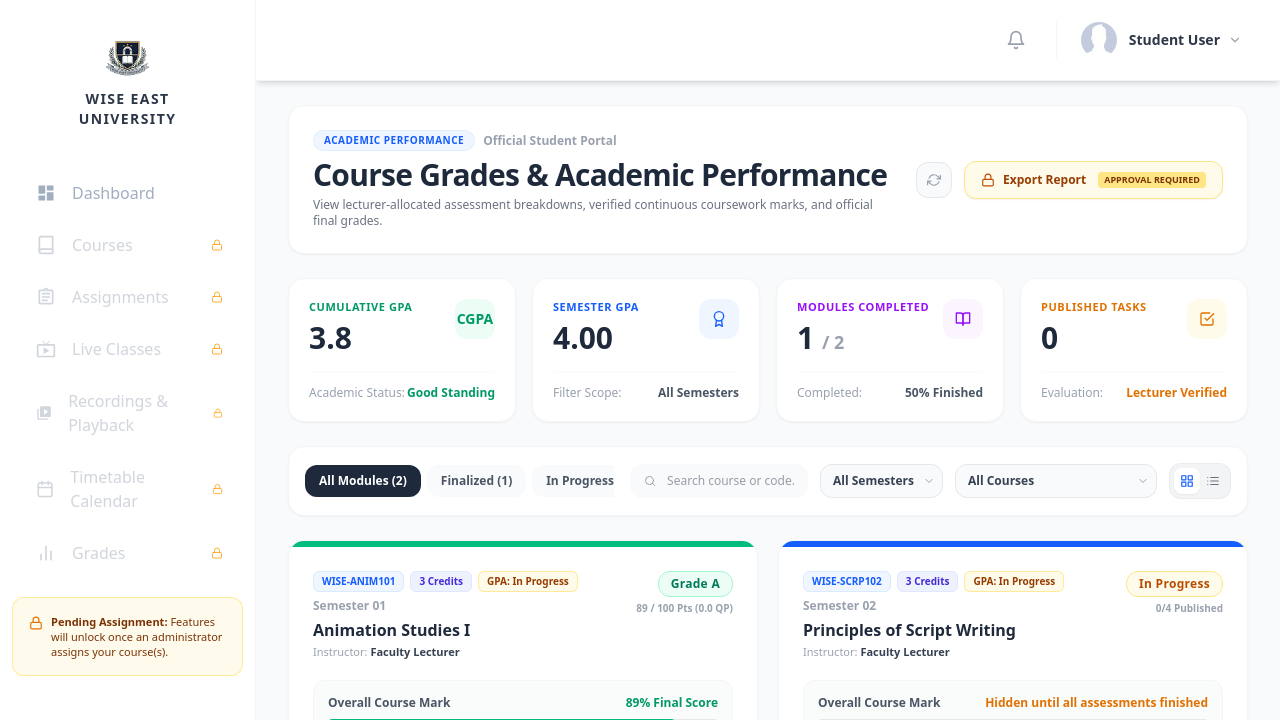
it: GradesPage component › shows admin approval modal when Export Report is clicked and report is not approved
The width and height of the screenshot is (1280, 720).
Expected: the heading "Animation Studies I" is shown, x1=313 y1=618 x2=470 y2=640
Click the button "Export Report Approval Required" at (1094, 180), box x1=964 y1=160 x2=1223 y2=198
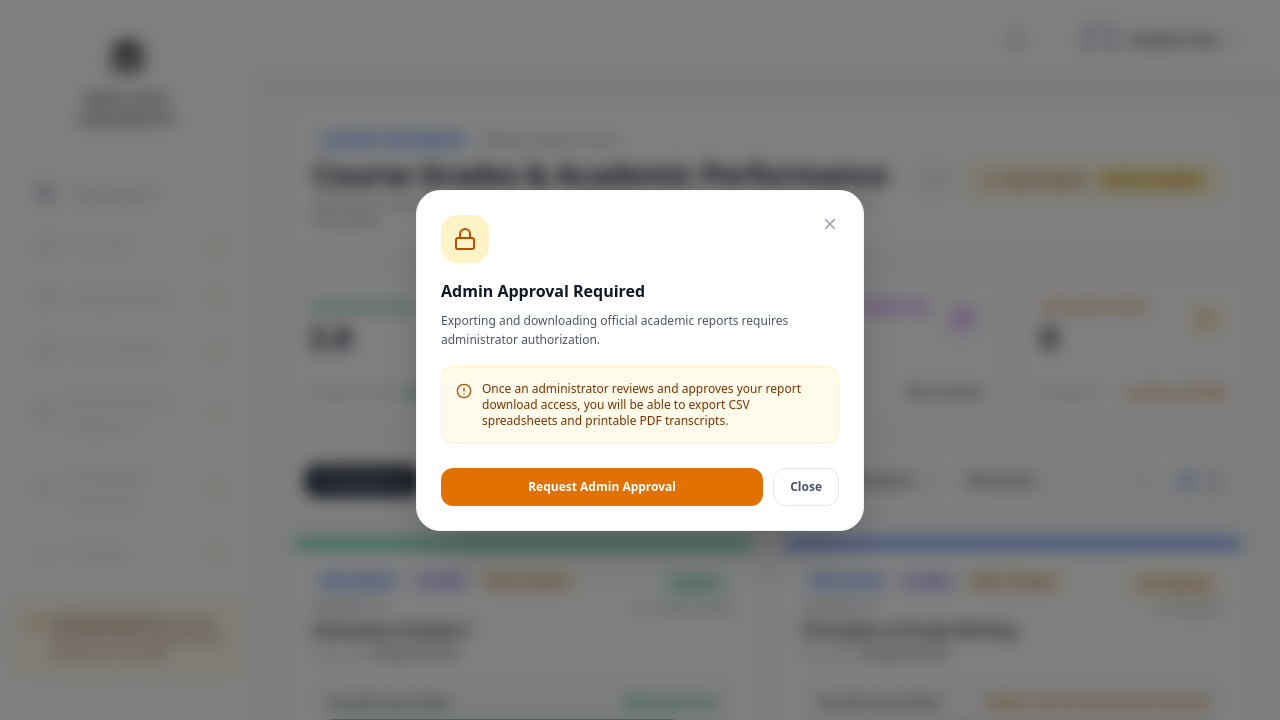
Now the heading "Admin Approval Required" is shown, box x1=441 y1=280 x2=645 y2=302
Now the button "Request Admin Approval" is shown, box x1=441 y1=468 x2=763 y2=506
